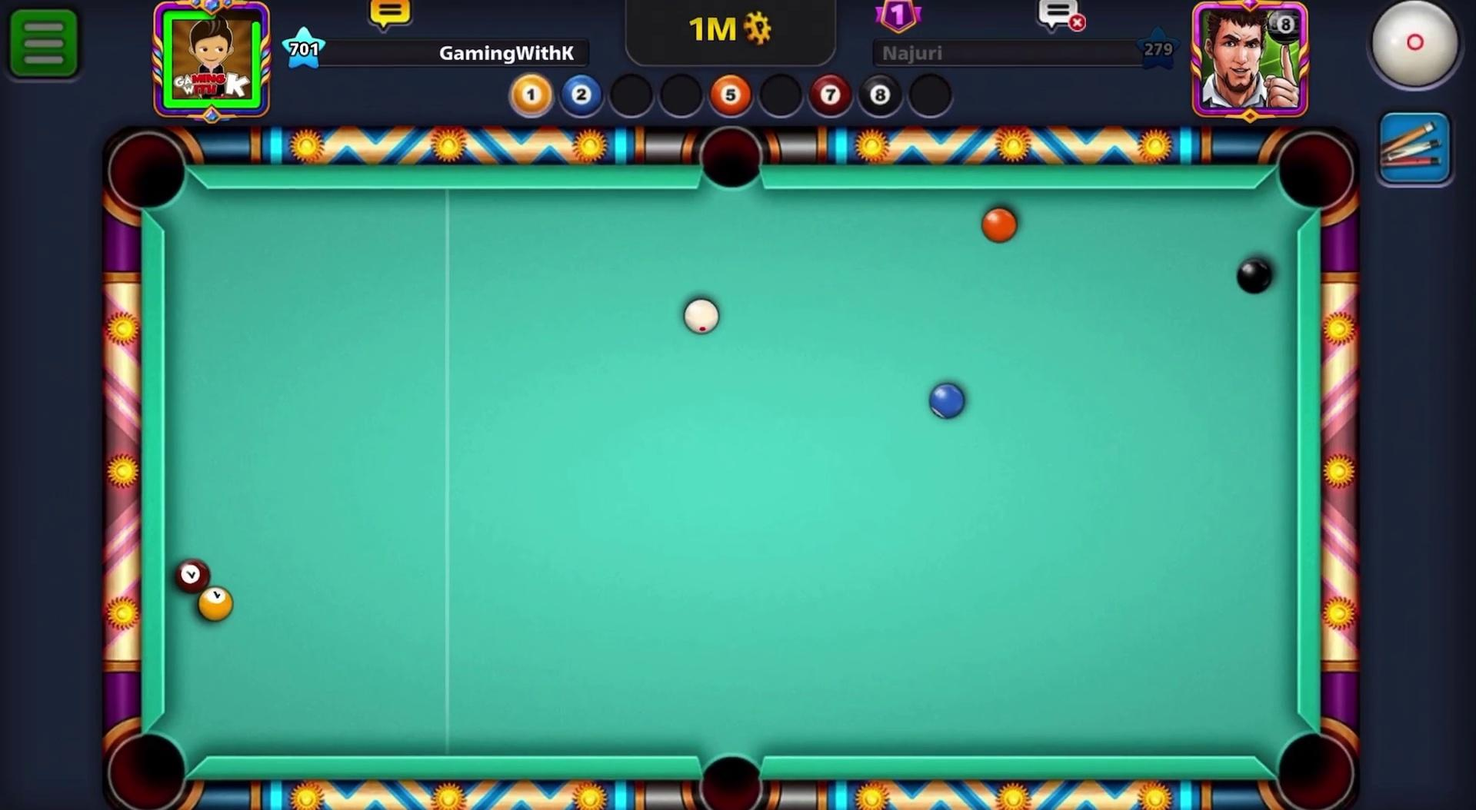Ball: (163, 551, 219, 599), (921, 377, 971, 429), (976, 203, 1022, 247), (1235, 251, 1275, 296), (194, 583, 234, 624)
Hole: (95, 119, 203, 224), (1264, 124, 1364, 226), (99, 715, 202, 809), (1263, 717, 1364, 809), (685, 118, 780, 204), (679, 734, 777, 809)
Play_Area: (160, 187, 1297, 759)
Spin: (1345, 0, 1475, 108)
White: (675, 292, 726, 338)
